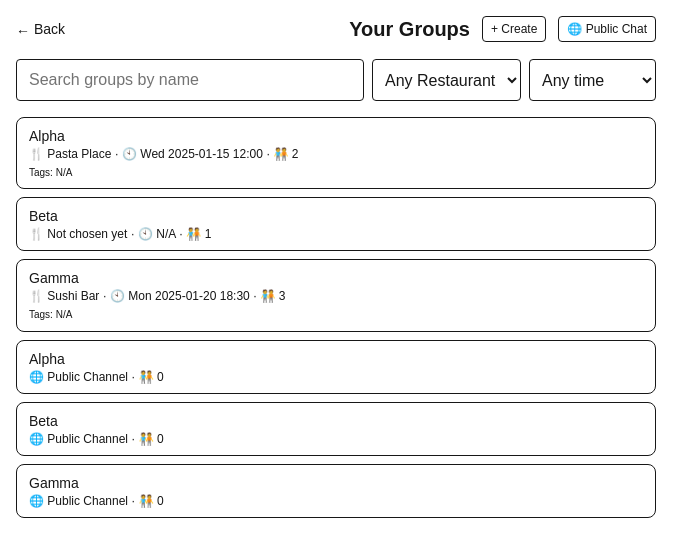
Test case: GroupListPage › shows date/time range inputs when "Match range" is selected
The image size is (673, 535).
Select "Match range" in the 2nd dropdown showing "Any time" at (592,80), box top-left (529, 59), bottom-right (656, 101)
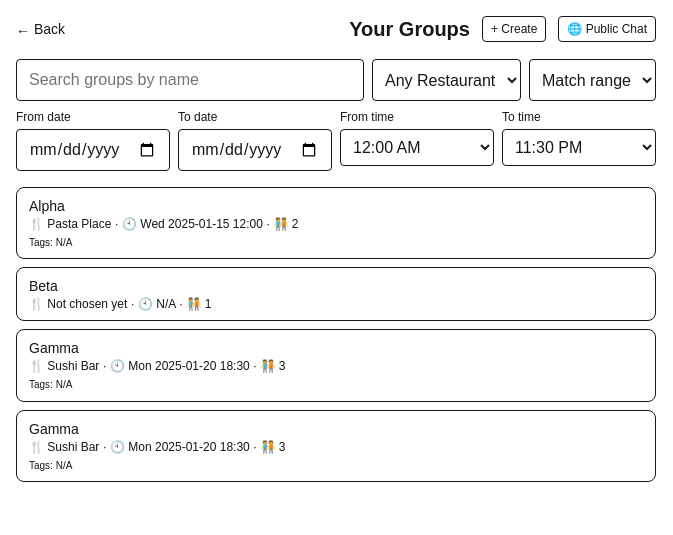
Expected: the text "From date" is shown, top-left (16, 110), bottom-right (71, 124)
Expected: the text "To date" is shown, top-left (178, 110), bottom-right (217, 124)
Expected: the text "From time" is shown, top-left (340, 110), bottom-right (394, 124)
